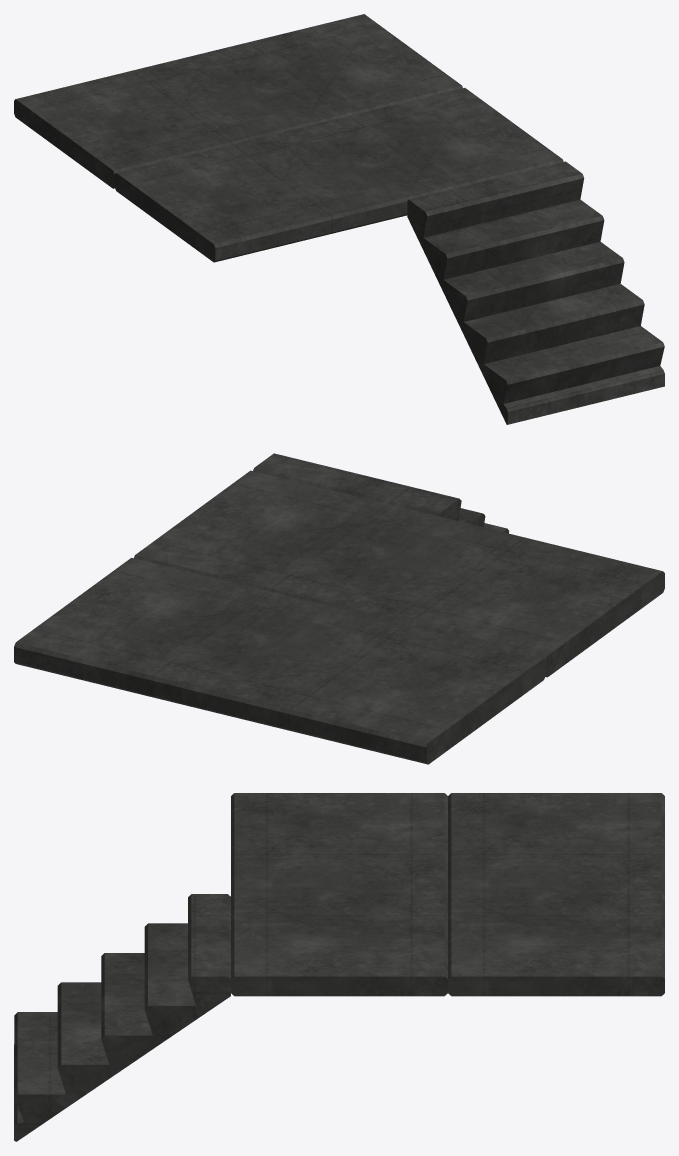
The model's file is stairs_2.fbx.
3 renders of one model, top to bottom at view 1: azimuth 30°, elevation 25°; view 2: azimuth 150°, elevation 25°; view 3: azimuth 270°, elevation 25°, orthographic. The views are drawn at different scales.
Parts seen in each view (by area): view 1: stairs_2; view 2: stairs_2; view 3: stairs_2.
Boxes of the visible parts, bbox=[...] form: stairs_2: bbox=[14, 14, 664, 424]; stairs_2: bbox=[14, 453, 664, 764]; stairs_2: bbox=[14, 793, 664, 1141].
Size of the model in its own units: 4 by 6 by 1.68.
